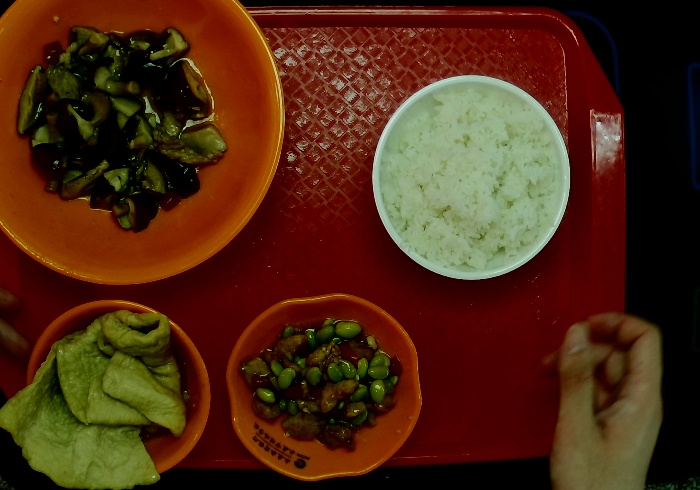YKMZ-Fan_Wan: (371, 72, 570, 281)
YKMZ-Ju_Se_Ao_Bian_Wan: (225, 292, 423, 484)
YKMZ-Ju_Se_Tang_Wan: (1, 1, 283, 286)
YKMZ-Ju_Se_Yuan_Wan: (27, 297, 212, 482)
